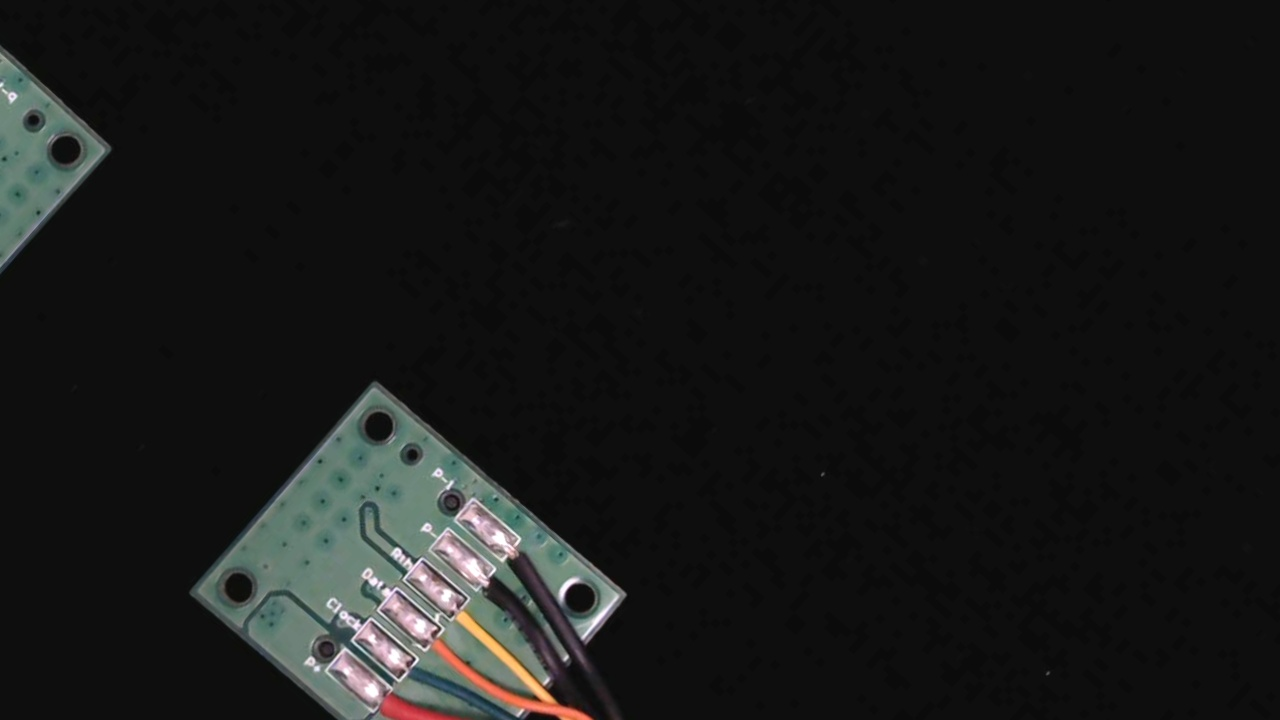Black: (465, 561, 534, 626)
Black1: (491, 530, 556, 592)
Green: (387, 649, 454, 713)
Orange: (413, 621, 483, 688)
Red: (362, 679, 429, 720)
Yellow: (438, 590, 506, 656)
